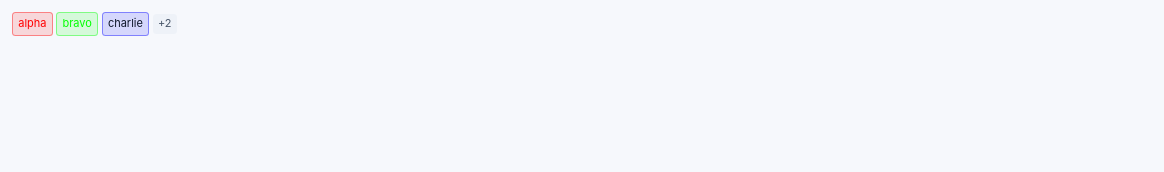
Test: LabelsCell overflow reveal › a pointer-down outside dismisses the reveal
Click the button with test id "label-overflow-trigger" at (165, 24), box top-left (153, 14), bottom-right (177, 34)
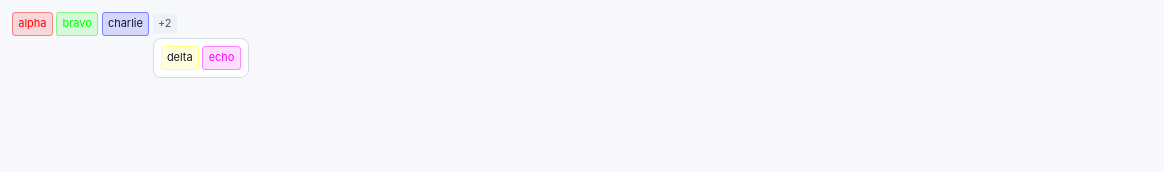
expect the element with test id "label-overflow-panel" is shown: met, box top-left (153, 38), bottom-right (249, 78)
Press the mouse on the element showing "alpha bravo charlie +2 delta echo" at (588, 24), box top-left (12, 12), bottom-right (1163, 36)
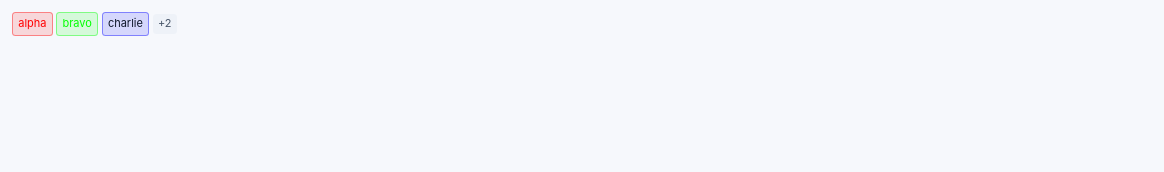
expect the element with test id "label-overflow-panel" is gone: met
